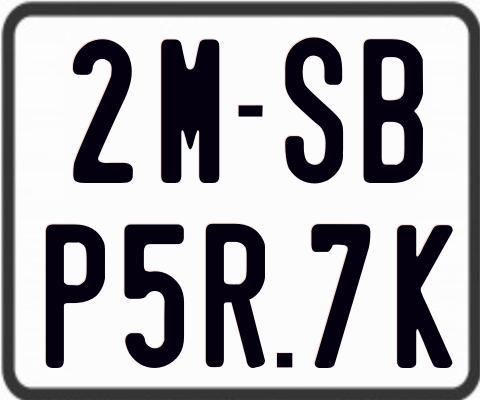2: (73, 36, 136, 180)
5: (121, 222, 186, 368)
7: (309, 222, 371, 366)
B: (362, 37, 425, 185)
K: (397, 225, 454, 374)
M: (159, 38, 221, 183)
P: (44, 224, 103, 371)
R: (204, 222, 268, 371)
S: (285, 35, 345, 184)
